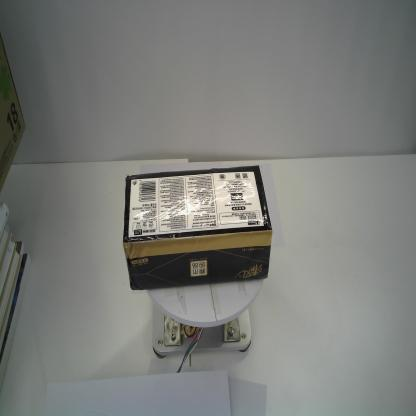Tissue: (122, 163, 272, 290)
